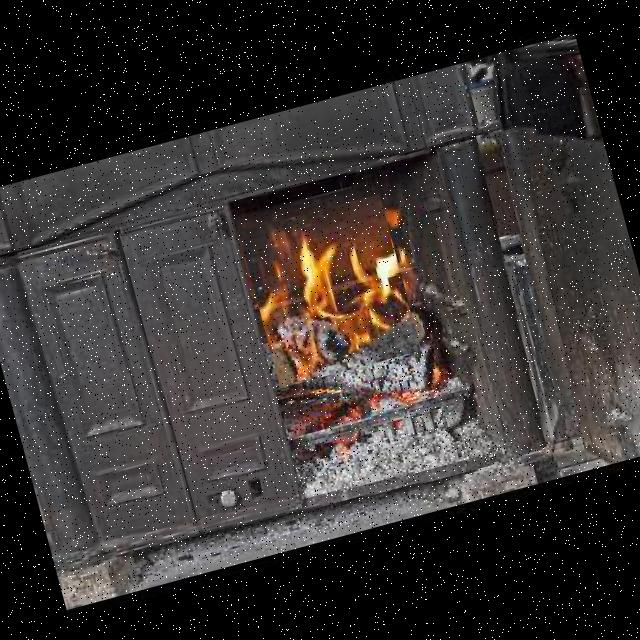fire: (238, 194, 421, 388)
